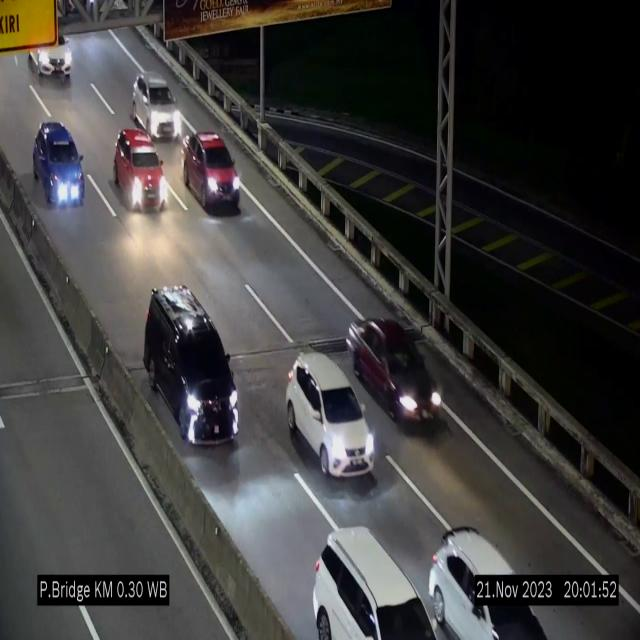Car: (144, 284, 240, 455), (310, 529, 444, 640), (429, 518, 531, 640), (349, 318, 444, 436), (286, 354, 375, 476), (34, 115, 90, 217), (110, 122, 168, 218), (183, 130, 241, 213), (132, 71, 182, 141), (28, 31, 78, 85)
